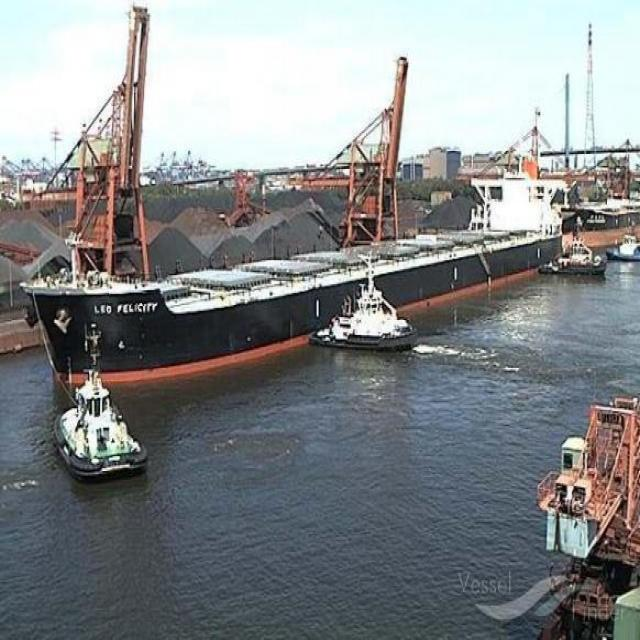OCR: (92, 290, 163, 322)
